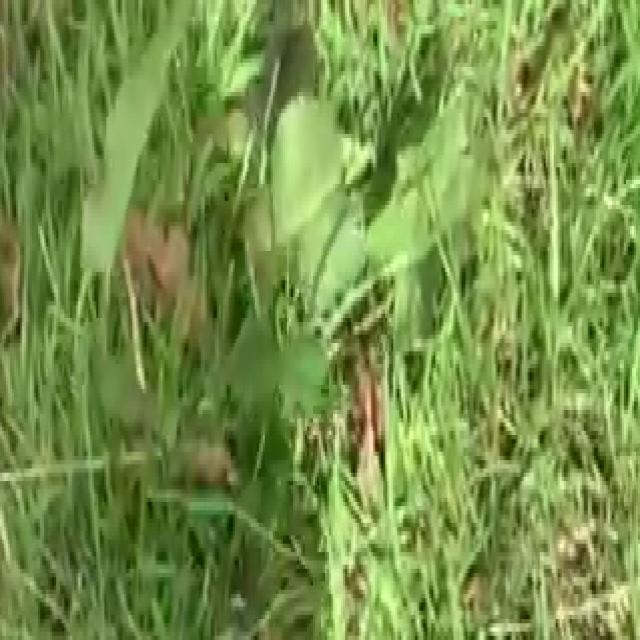organic waste: (72, 0, 516, 565)
